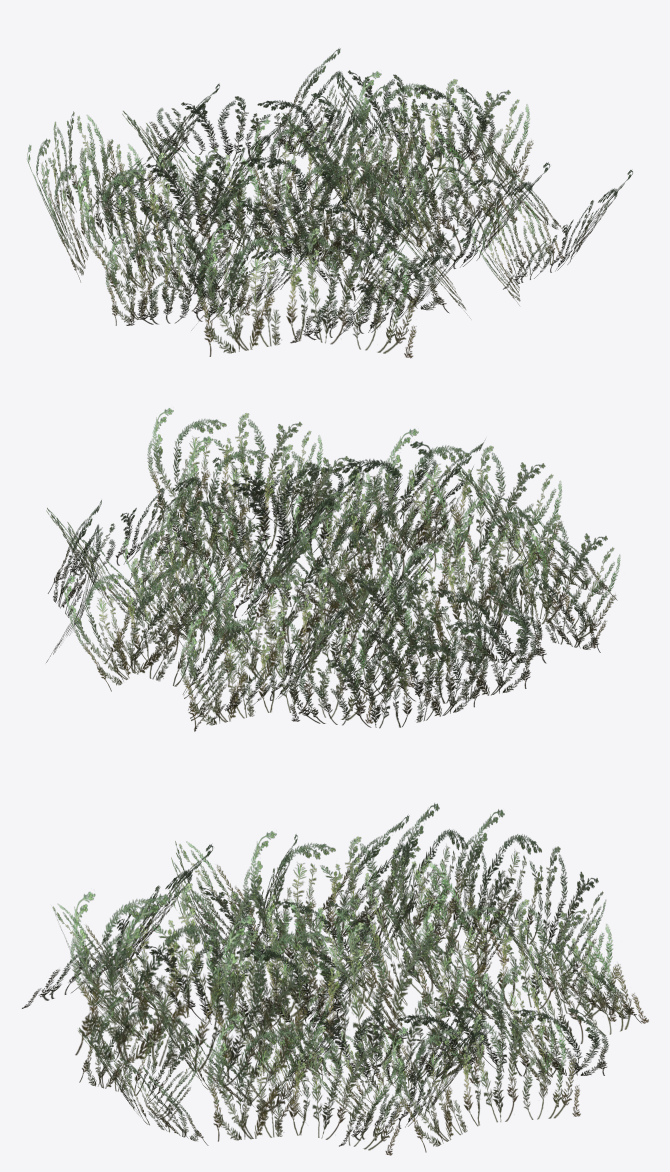
File: grass008.glb
3 views of the same model, one above another, from view 1: azimuth 30°, elevation 25°; view 2: azimuth 150°, elevation 25°; view 3: azimuth 270°, elevation 25° (orthographic). The views are drawn at different scales.
Parts seen in each view (by area): view 1: grass008; view 2: grass008; view 3: grass008.
Boxes of the visible parts, bbox=[...] form: grass008: bbox=[27, 48, 632, 358]; grass008: bbox=[46, 408, 620, 731]; grass008: bbox=[22, 803, 648, 1155].
Size of the model in its own units: 5.45 by 1.4 by 5.21.
1 material, 1 textured.
